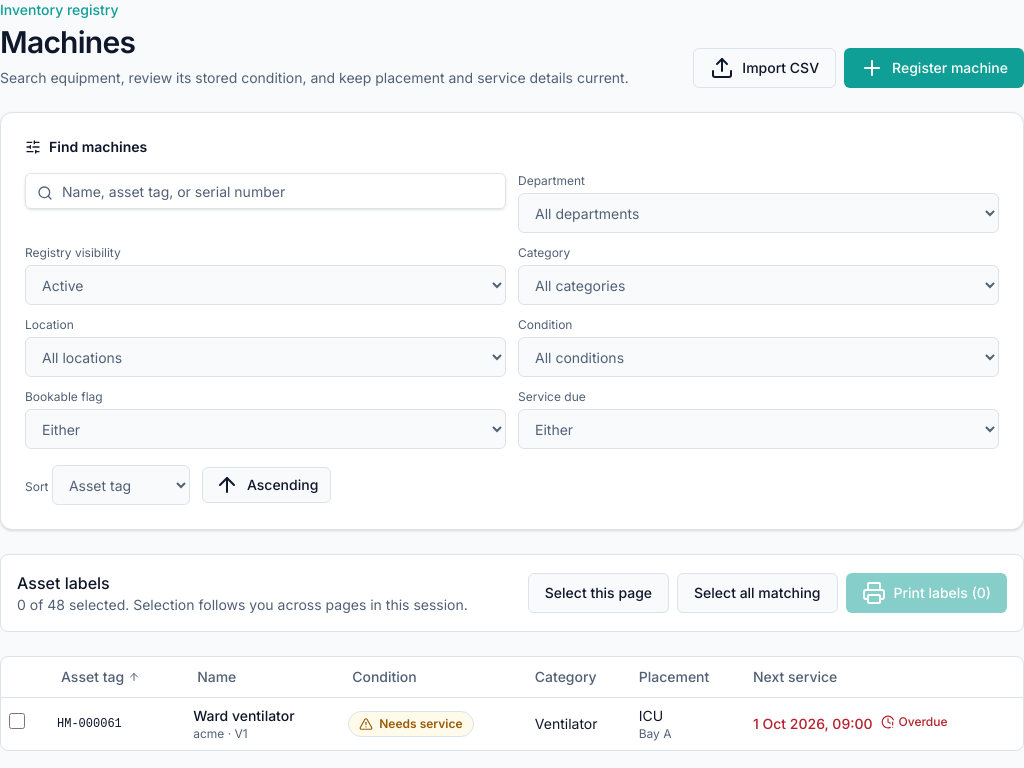
Scenario: MachinesList › keeps label selection across the session and loads matching machines in one request
The image size is (1024, 768).
Click the checkbox named "Select HM-000061 for label printing".
click(17, 721)  # box [9,713,25,729]
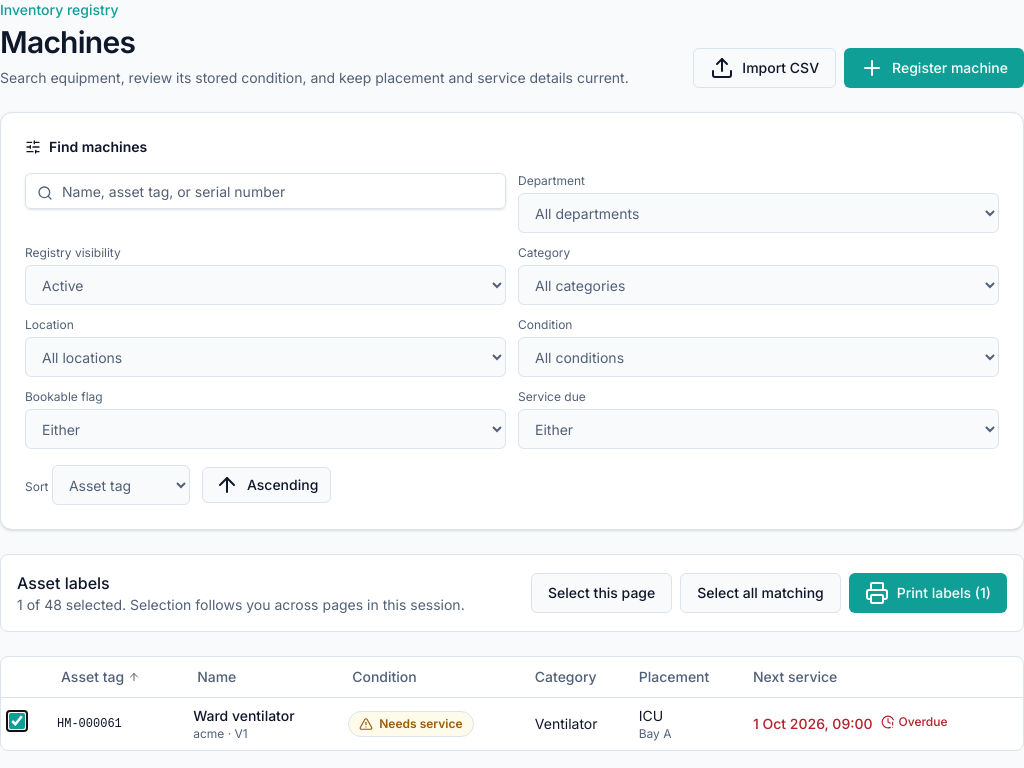
Click the button "Select all matching".
click(761, 593)  # box [680,573,841,613]
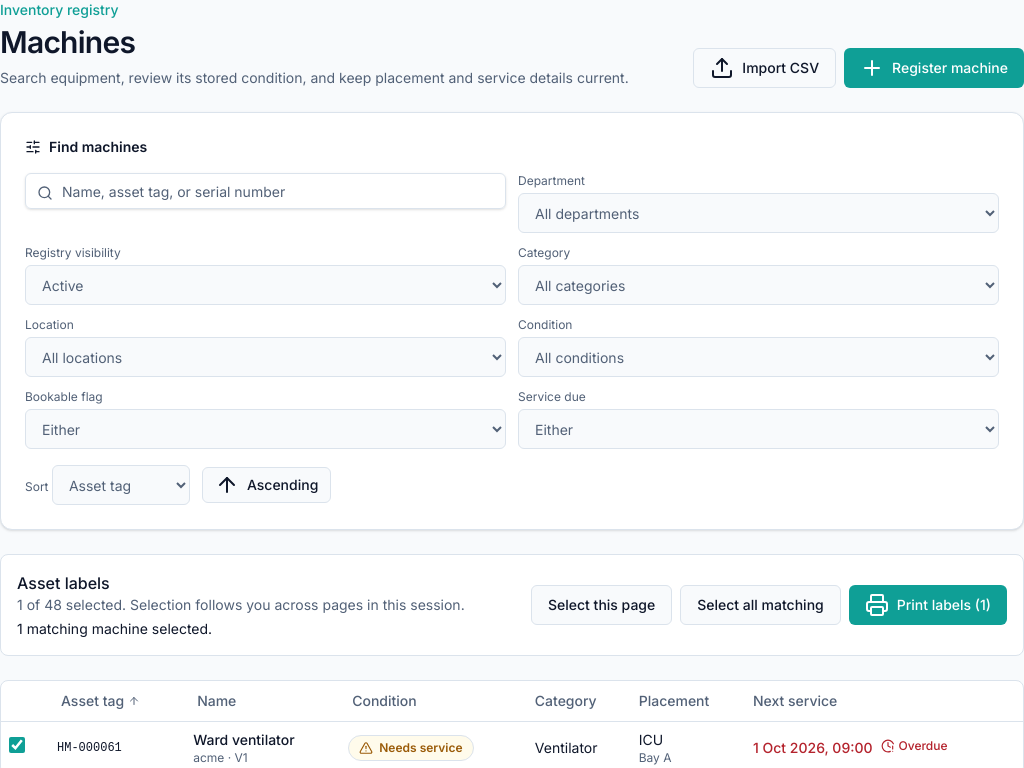
Expected: the text "1 matching machine selected." is shown, [17,620,212,637]
